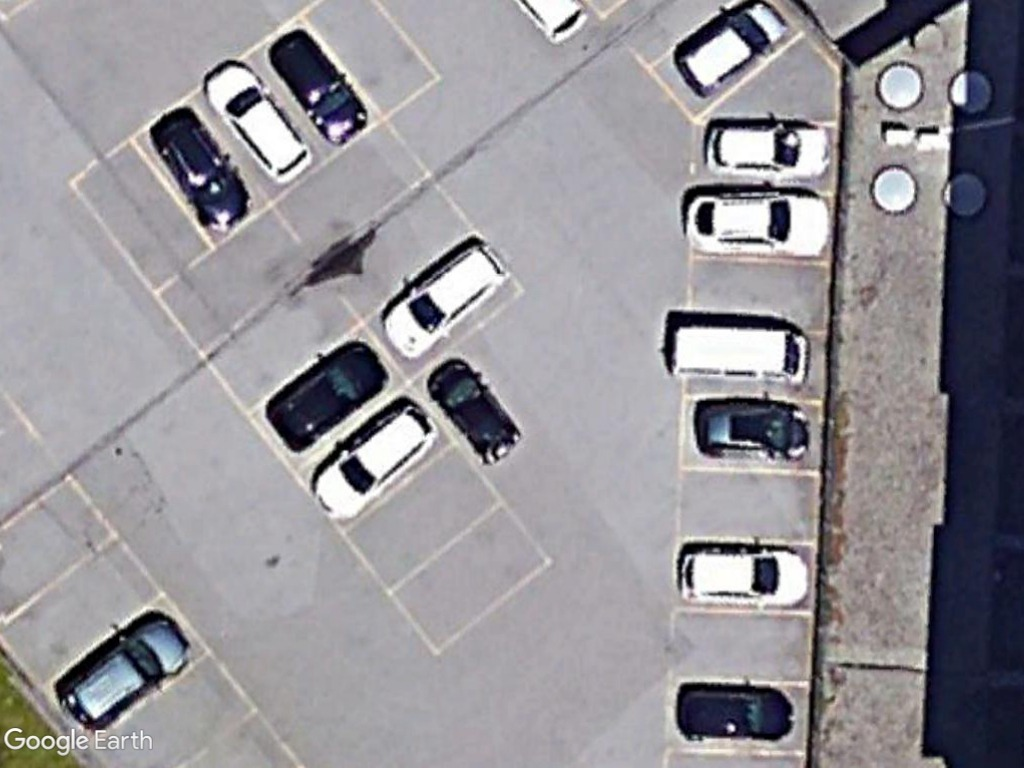car: (56, 612, 195, 734), (385, 236, 510, 361), (311, 402, 437, 524), (261, 336, 387, 451), (201, 61, 314, 186), (415, 351, 531, 468), (146, 114, 260, 233), (266, 27, 371, 148), (676, 0, 794, 100), (683, 184, 833, 258), (671, 539, 815, 612), (700, 118, 838, 181), (670, 679, 797, 746), (696, 397, 816, 464)
van: (668, 316, 812, 388)
